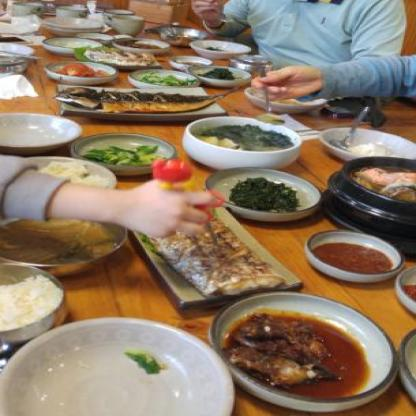Peixe: (44, 81, 238, 126)
